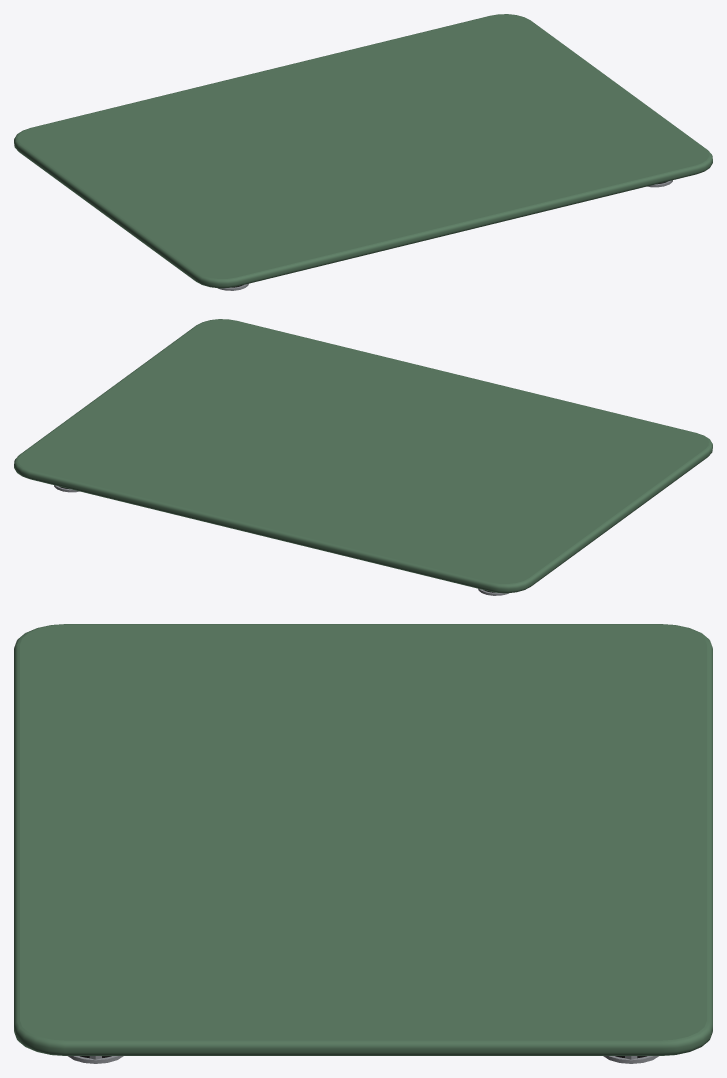
The model's file is t60_mounts.obj.
3 views of the same model, one above another, from view 1: azimuth 30°, elevation 25°; view 2: azimuth 150°, elevation 25°; view 3: azimuth 270°, elevation 25° (orthographic). The views are drawn at different scales.
Parts seen in each view (by area): view 1: t60_mounts; view 2: t60_mounts; view 3: t60_mounts.
Part boxes in pixels (bbox=[...]): t60_mounts: bbox=[14, 14, 712, 290]; t60_mounts: bbox=[14, 319, 712, 595]; t60_mounts: bbox=[14, 624, 712, 1063].
Size of the model in its own units: 4.88 by 0.24 by 3.42.
